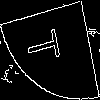T: (25, 25, 69, 66)
